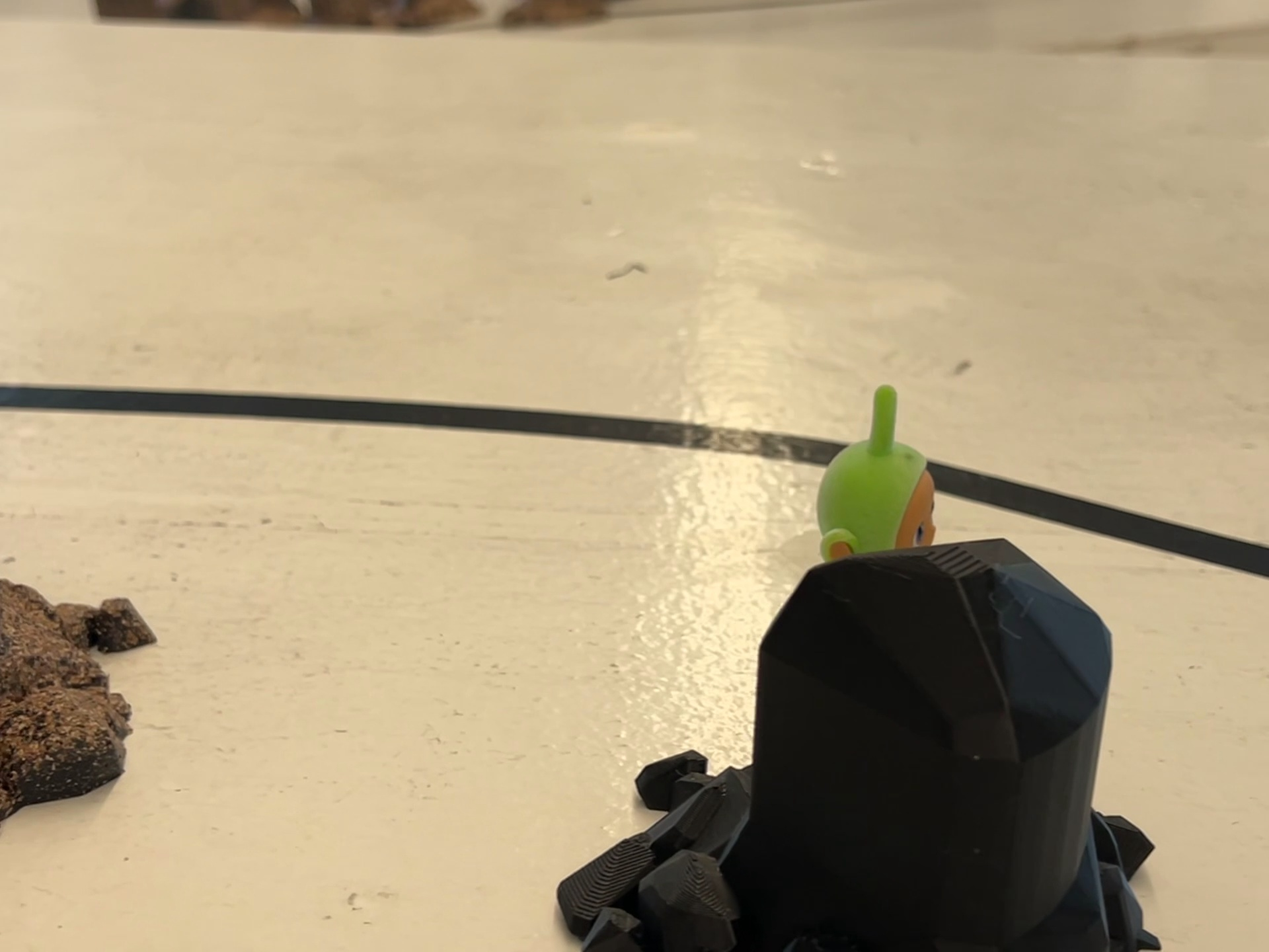teletubby: (818, 385, 936, 561)
